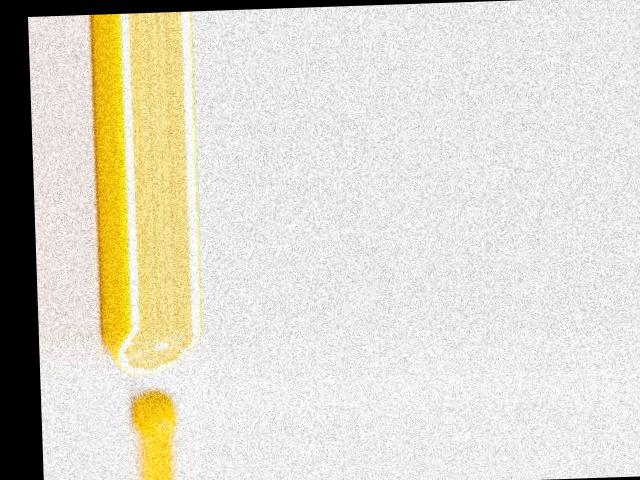lemon: (134, 391, 175, 438)
